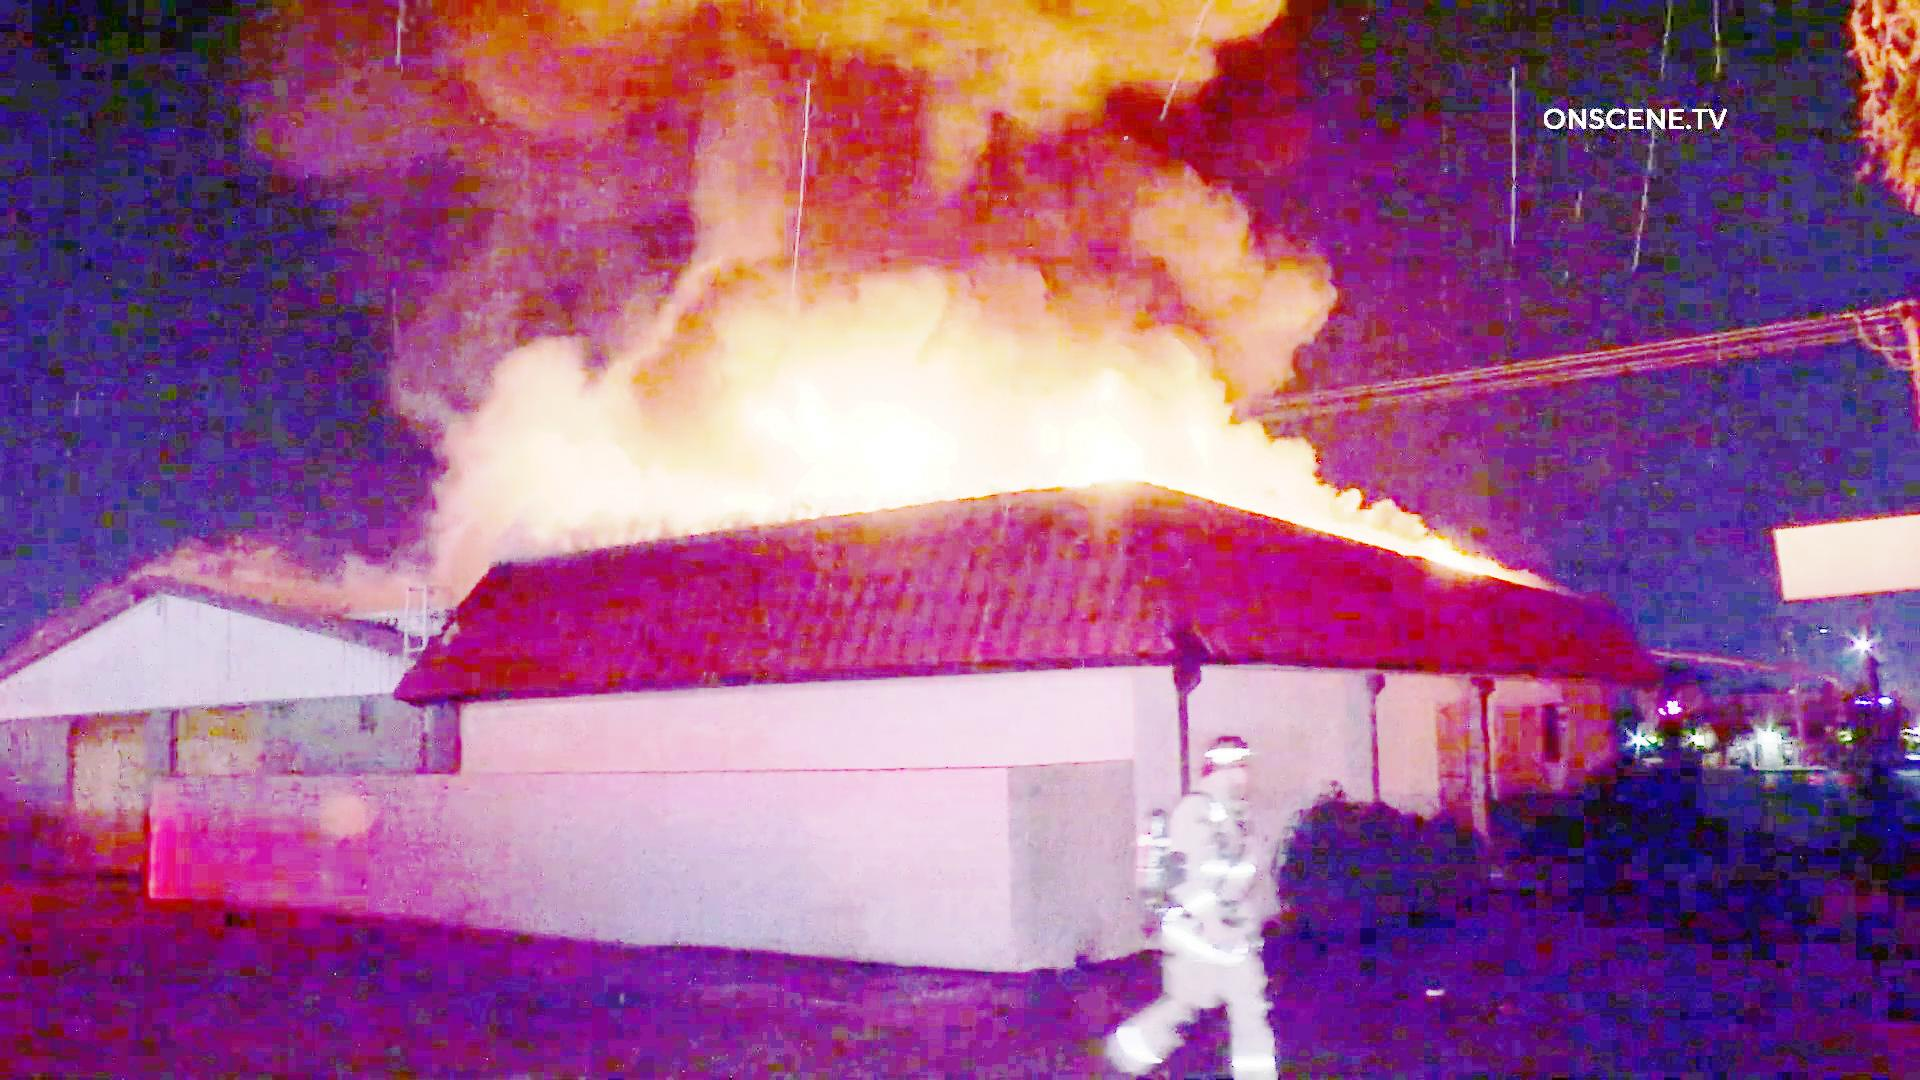fire: (728, 335, 971, 505), (1031, 373, 1153, 484)
smoke: (556, 0, 1266, 245), (448, 323, 703, 510)
